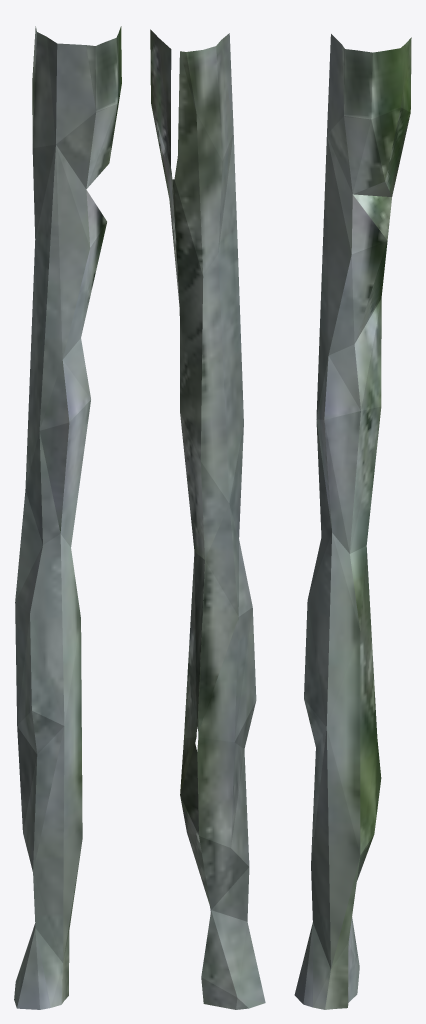
3 views of the same model, side by side, from view 1: azimuth 30°, elevation 25°; view 2: azimuth 150°, elevation 25°; view 3: azimuth 330°, elevation 25° (orthographic).
Bounding box in the file's own units: 0.3379 × 2.95 × 0.2474.
Materials: 1 (1 with a texture image).
